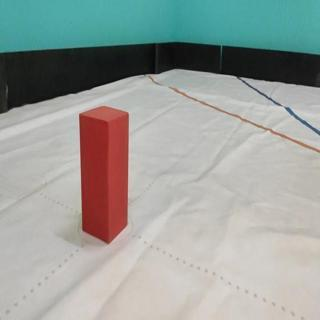redbox: (79, 105, 129, 246)
